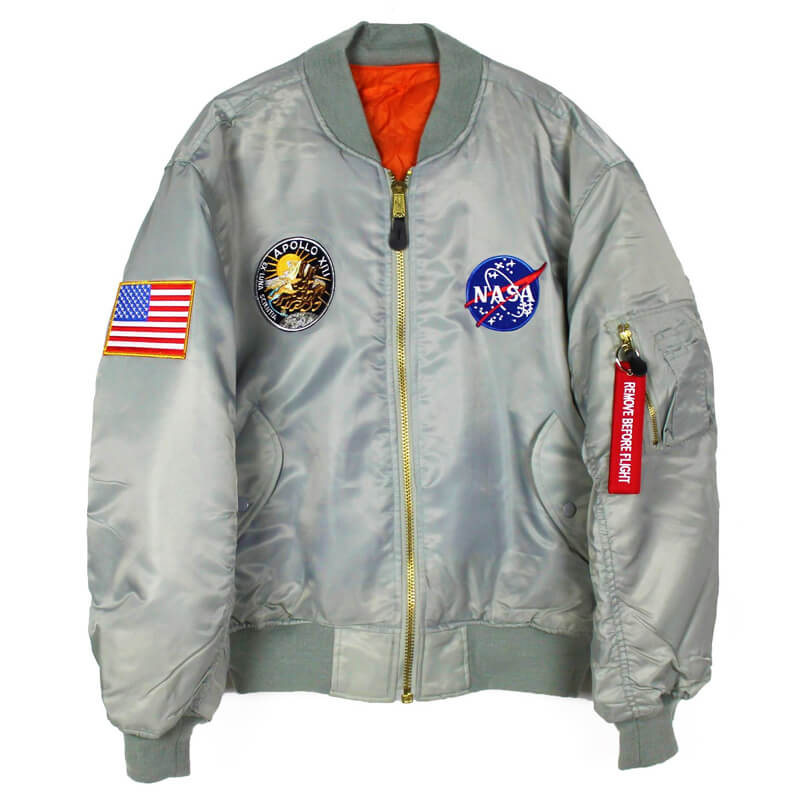NASA: (459, 255, 546, 335)
